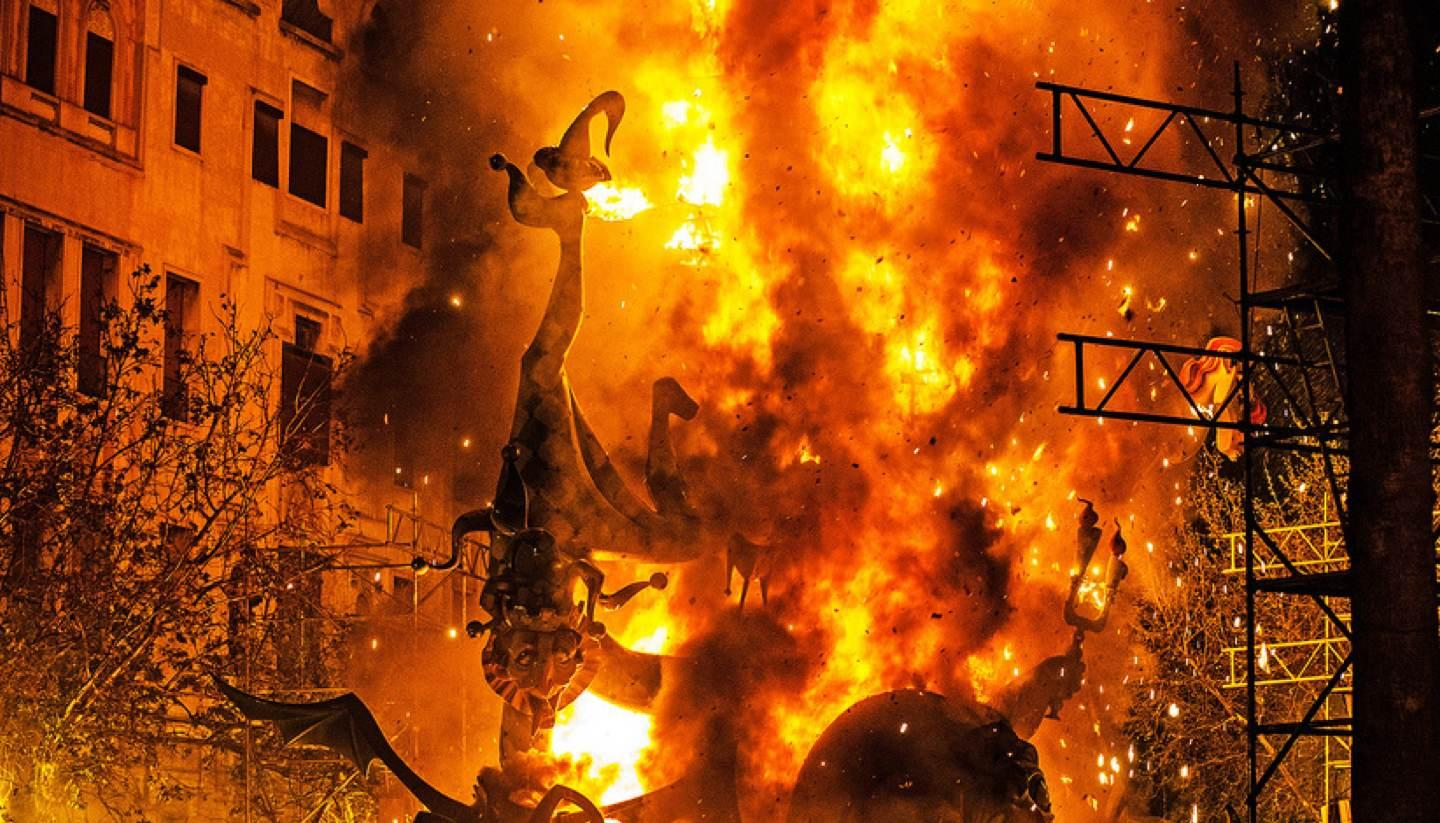Fire: (487, 32, 1188, 822)
